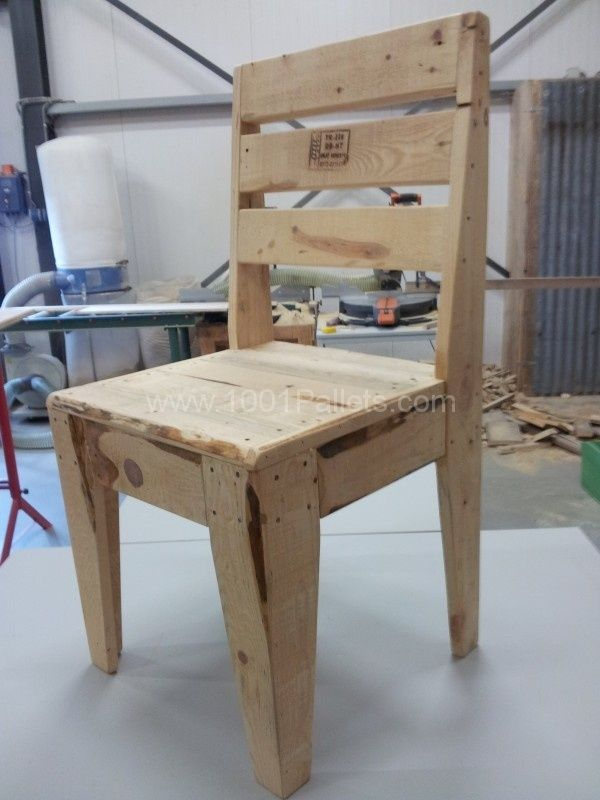chairs: (65, 14, 539, 798)
